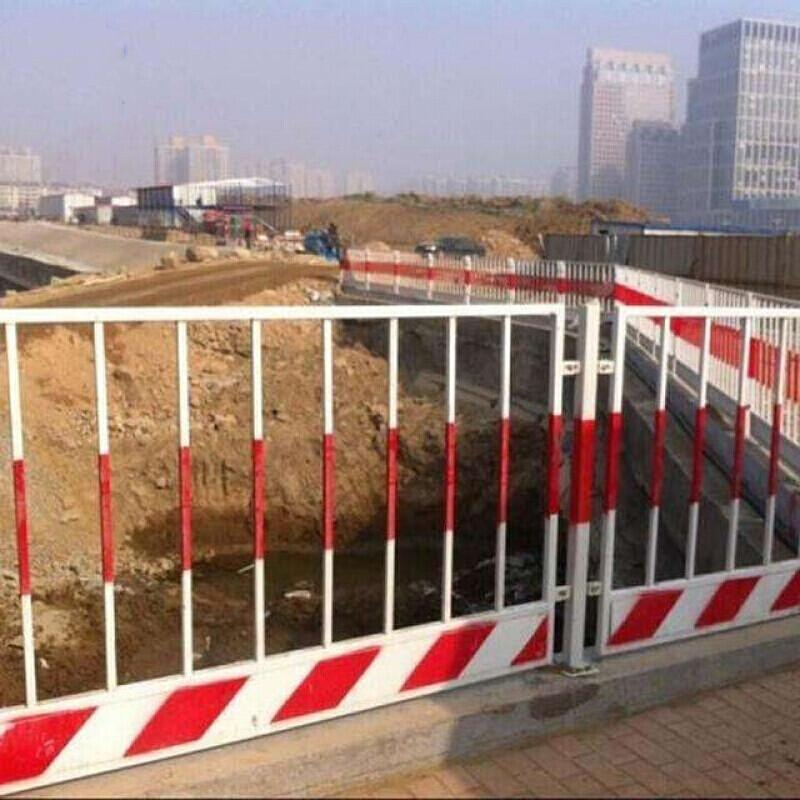sign: (10, 291, 800, 770)
